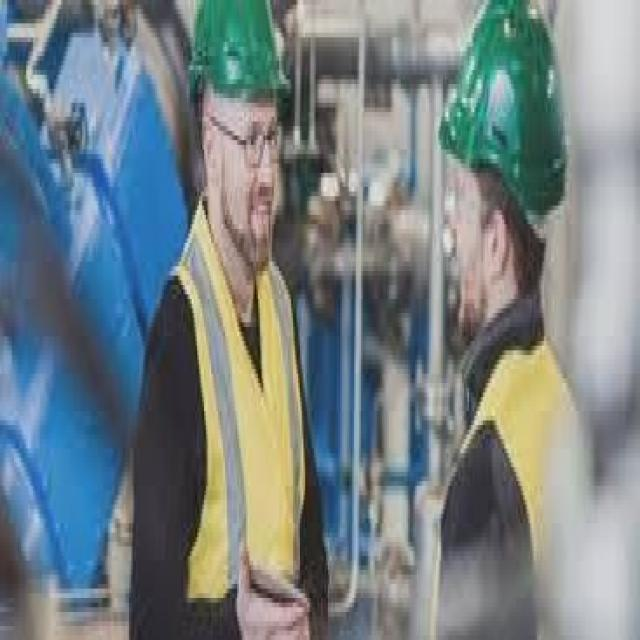Reflective-Jacket: (145, 196, 319, 640), (418, 322, 600, 640)
Safety-Helmet: (434, 0, 577, 252), (177, 0, 298, 135)
